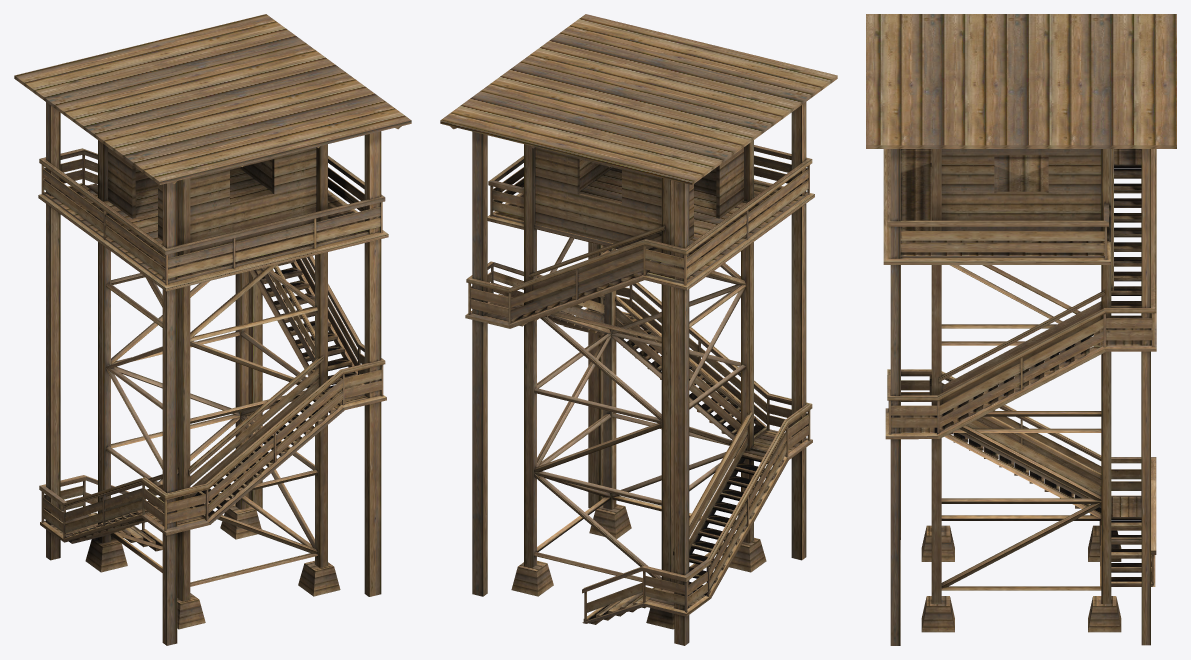
3 renders of one model, left to right at view 1: azimuth 30°, elevation 25°; view 2: azimuth 150°, elevation 25°; view 3: azimuth 270°, elevation 25°, orthographic. The views are drawn at different scales.
Visible parts, largest first — view 1: watchtowerHigh; view 2: watchtowerHigh; view 3: watchtowerHigh.
Boxes of the visible parts, left/top/right/bottom form: watchtowerHigh: left=14, top=14, right=411, bottom=645; watchtowerHigh: left=440, top=14, right=837, bottom=645; watchtowerHigh: left=866, top=14, right=1176, bottom=645.
Bounding box in the file's own units: 4.22 × 7.65 × 4.22.
Materials: 1 (1 with a texture image).
